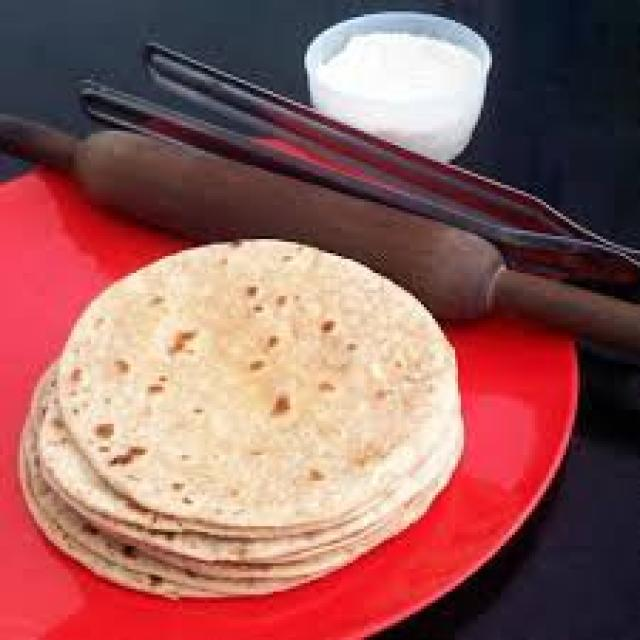CHAPATHI: (13, 236, 464, 602)
